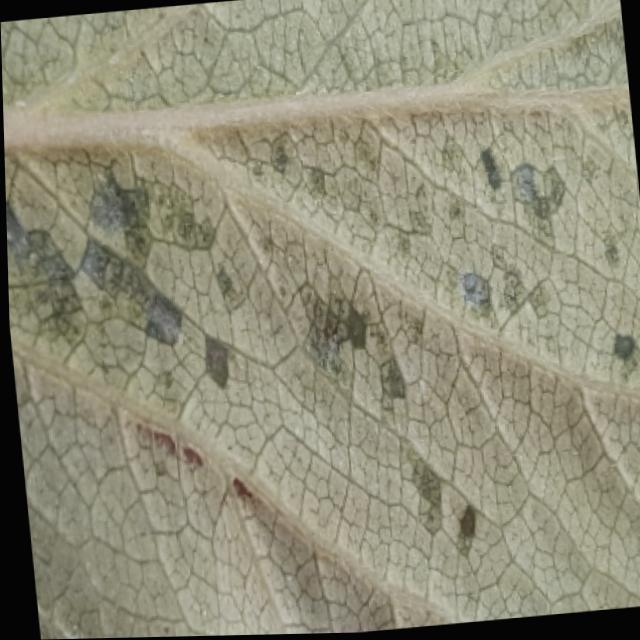Angular Leafspot: (4, 106, 640, 566)
